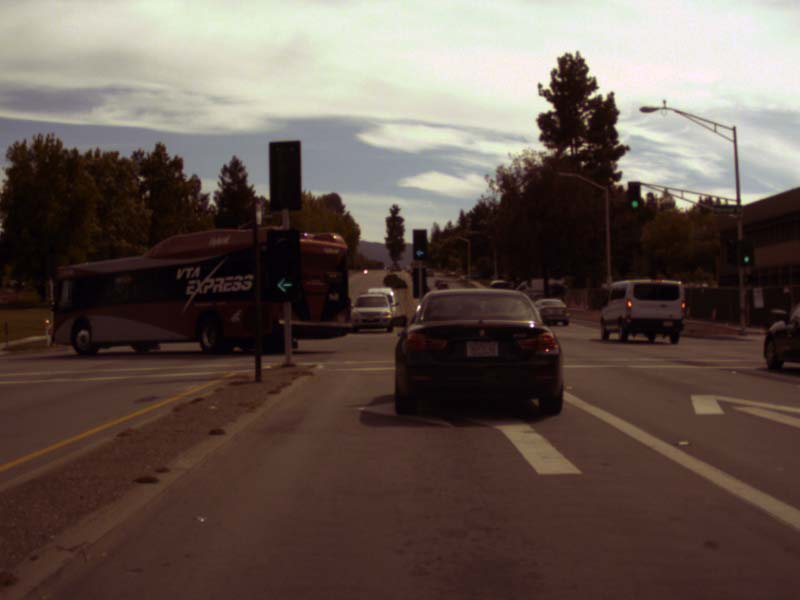Green: (265, 230, 302, 301), (737, 241, 755, 268), (412, 231, 428, 260), (626, 183, 640, 209)
